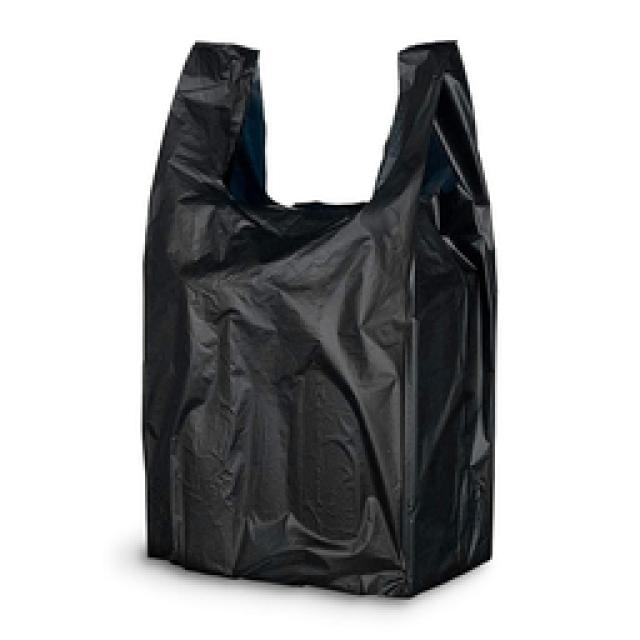plastic: (148, 42, 492, 595)
